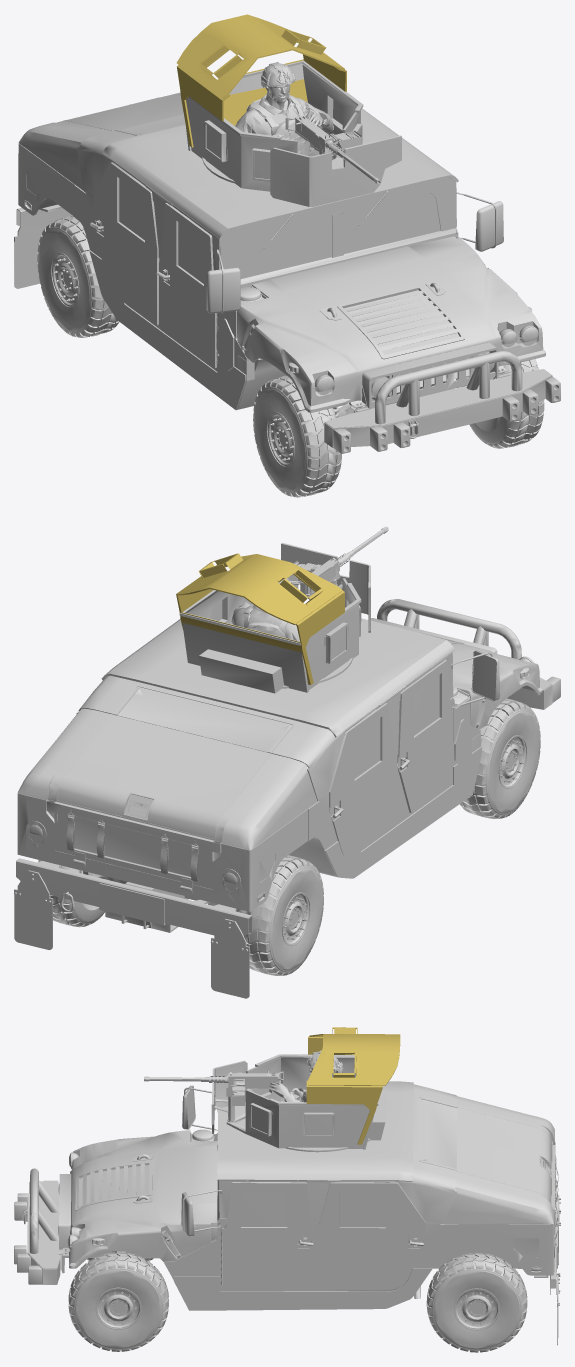
The model's file is Figure 3.fbx.
3 renders of one model, top to bottom at view 1: azimuth 30°, elevation 25°; view 2: azimuth 150°, elevation 25°; view 3: azimuth 270°, elevation 25°, orthographic. The views are drawn at different scales.
Parts seen in each view (by area): view 1: body, head; view 2: body, head; view 3: body, head.
Boxes of the visible parts, left/top/right/bottom form: body: left=14, top=92, right=560, bottom=497; head: left=176, top=14, right=401, bottom=206; body: left=14, top=599, right=560, bottom=998; head: left=176, top=526, right=388, bottom=693; body: left=14, top=1081, right=560, bottom=1352; head: left=144, top=1027, right=400, bottom=1149.
Bounding box in the file's own units: 681 × 718 × 1328.
